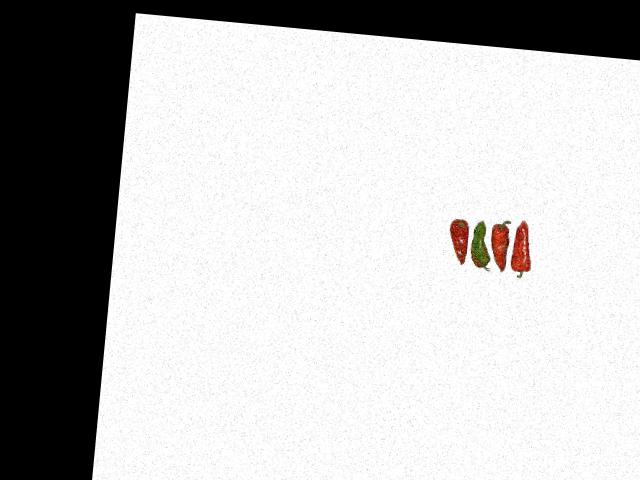bell_pepper: (441, 216, 471, 269)
